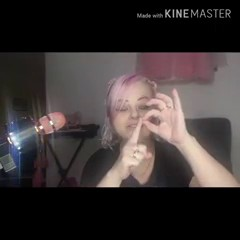P: (112, 86, 186, 183)
